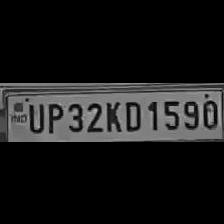0: (200, 95, 218, 129)
1: (142, 96, 160, 132)
2: (83, 98, 103, 132)
3: (64, 98, 84, 132)
5: (160, 96, 180, 130)
9: (180, 96, 200, 130)
D: (121, 96, 143, 132)
K: (102, 97, 122, 132)
P: (44, 99, 64, 134)
U: (25, 100, 43, 132)
